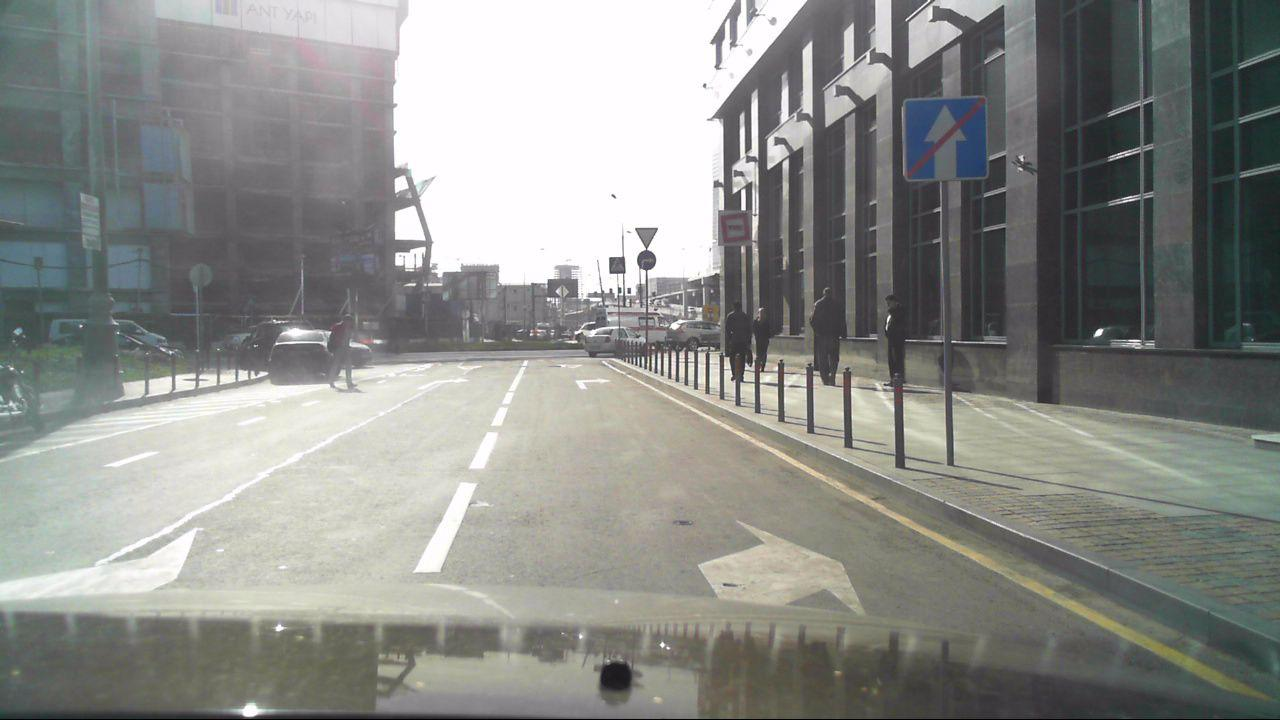2_4: (635, 227, 659, 250)
4_1_2: (637, 250, 657, 270)
5_19_1: (607, 256, 627, 274)
5_6: (903, 97, 989, 180)
